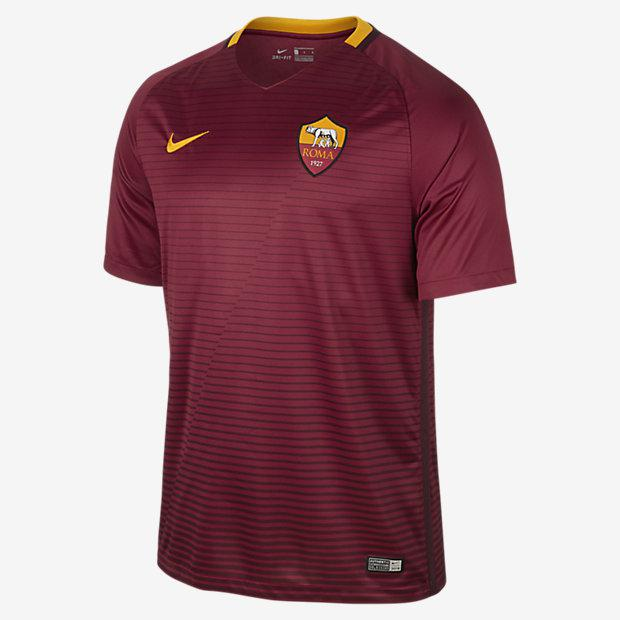teeshirt: (66, 6, 563, 615)
